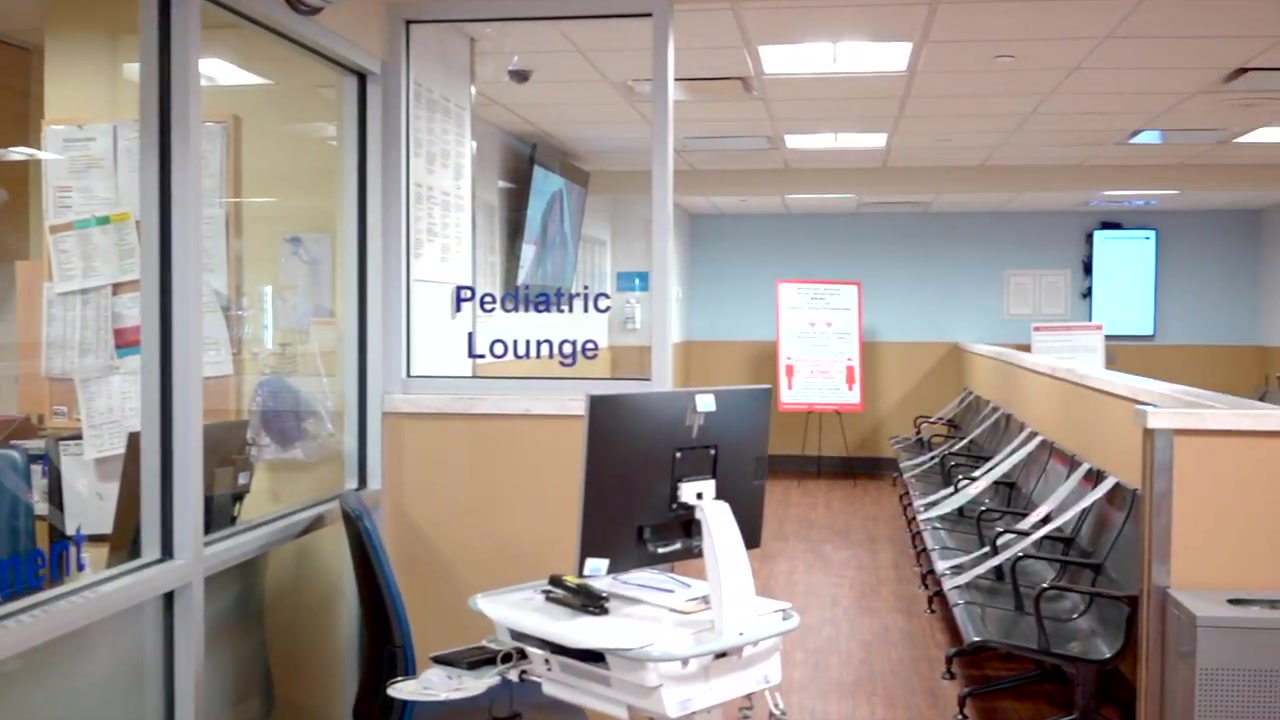TV: (505, 142, 591, 306), (1091, 228, 1157, 337)
chair: (951, 496, 1152, 720), (930, 473, 1137, 677), (924, 457, 1103, 610), (914, 446, 1079, 568), (337, 489, 419, 720), (908, 437, 1052, 543), (903, 424, 1039, 527)
computer: (575, 384, 774, 577), (102, 419, 255, 568)
countertop: (958, 338, 1280, 436)
dispenser: (624, 298, 641, 329)
keyboard: (428, 645, 529, 671)
mouse: (418, 667, 459, 693)
waste_bin: (1163, 584, 1280, 720)
